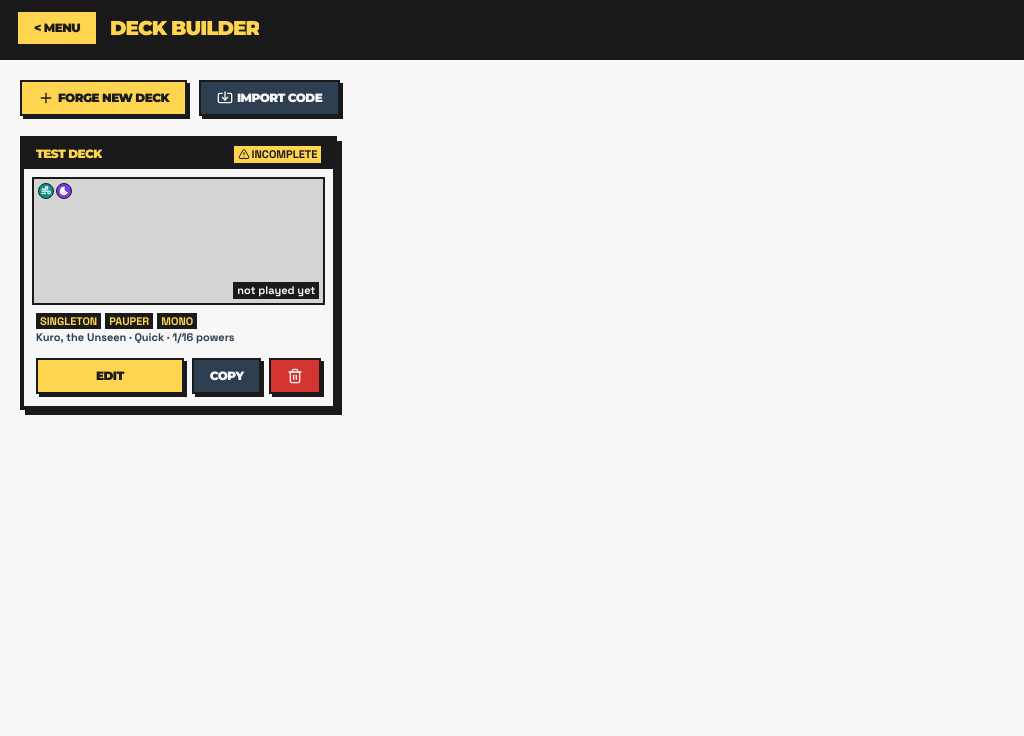
deck editor › the Location slot holds one: picking another swaps it in
The width and height of the screenshot is (1024, 736).
Step 1. Click the button "EDIT" → [110, 376], box left=36, top=358, right=184, bottom=394
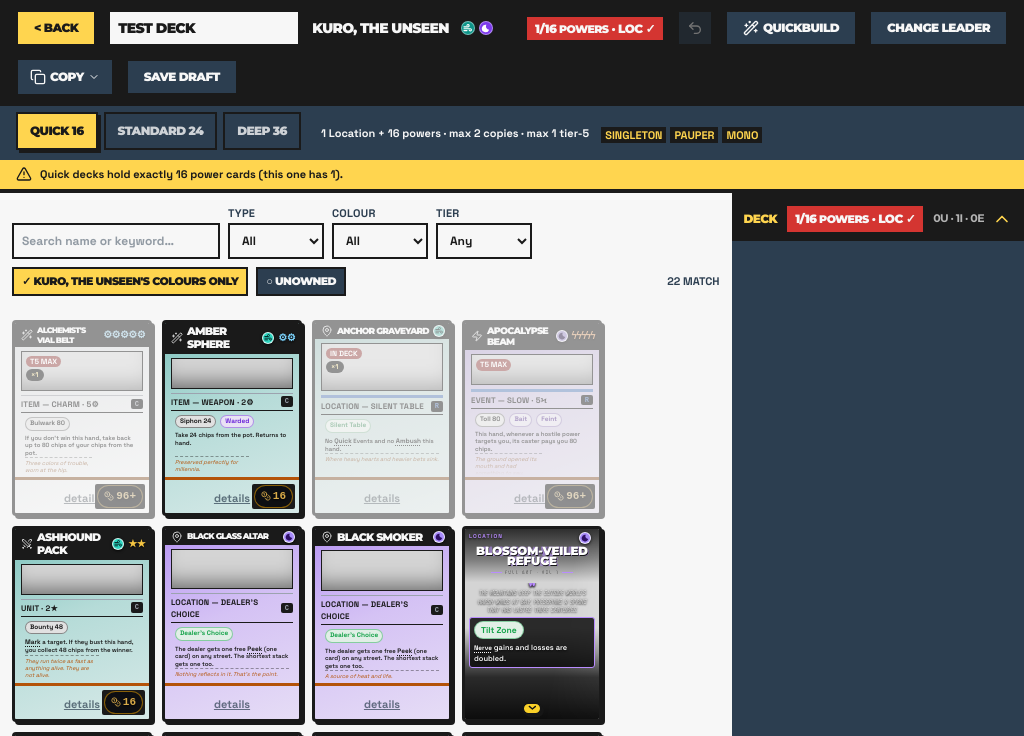
Step 2. Click the button with aria-label "Black Glass Altar, Location — Dealer's Choice" → [232, 624], box left=162, top=526, right=302, bottom=722
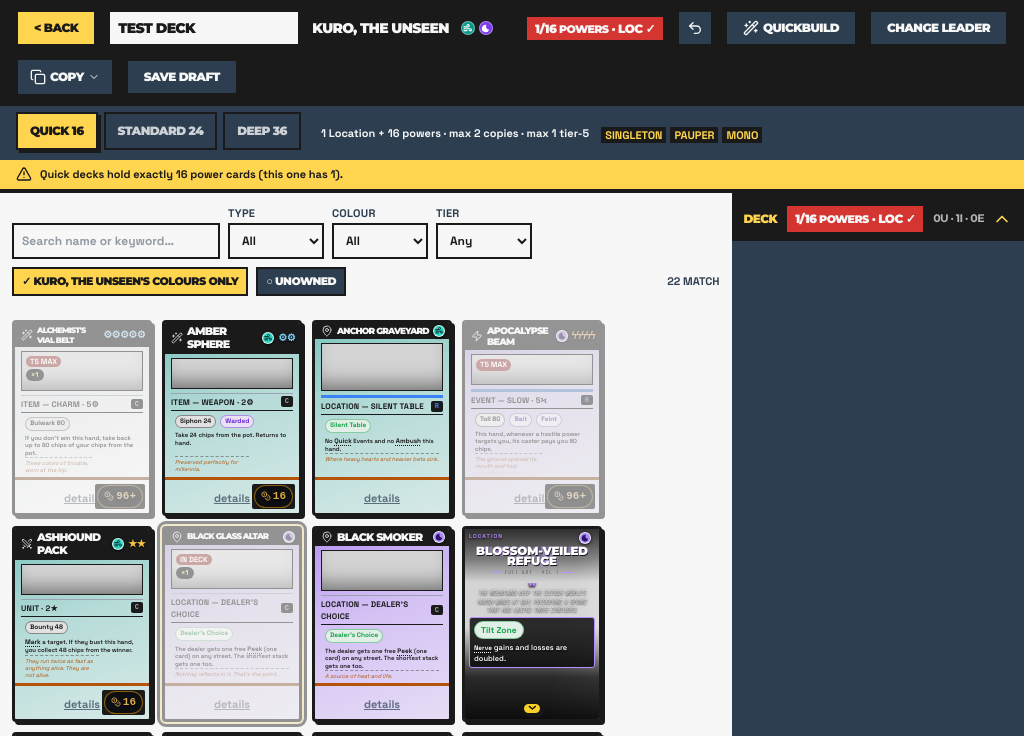
# Open the phone sheet to read the list.
Step 3. Click the button "DECK 1/16 POWERS · LOC ✓ 0U · 1I · 0E" → [878, 218], box left=732, top=196, right=1023, bottom=240
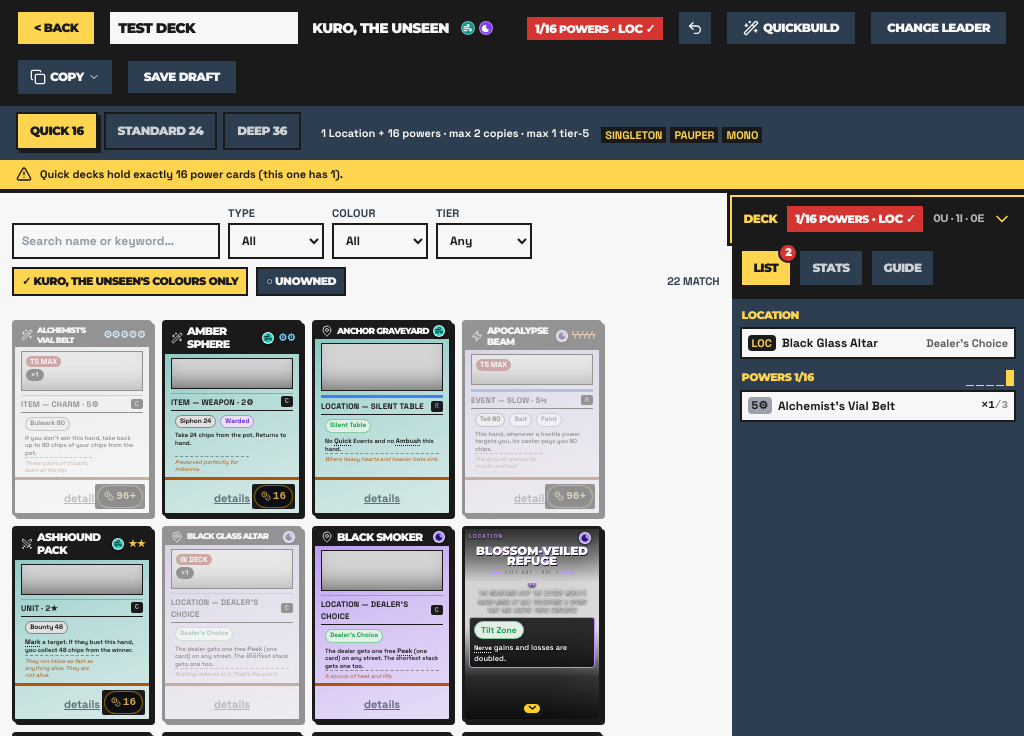
Result: the 1st text "Black Glass Altar" is shown at left=782, top=335, right=878, bottom=351
